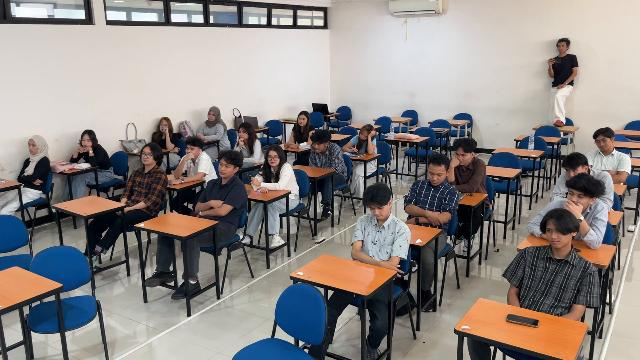bingung: (546, 225, 567, 248), (567, 189, 586, 206), (428, 168, 444, 186), (369, 205, 387, 220), (218, 160, 233, 177), (595, 137, 609, 150), (455, 150, 467, 165), (142, 150, 154, 164), (268, 152, 280, 166), (81, 136, 92, 148), (239, 128, 249, 140), (313, 141, 323, 153), (29, 140, 37, 154), (298, 115, 307, 126), (160, 120, 167, 131), (208, 112, 216, 121), (360, 132, 367, 140)
